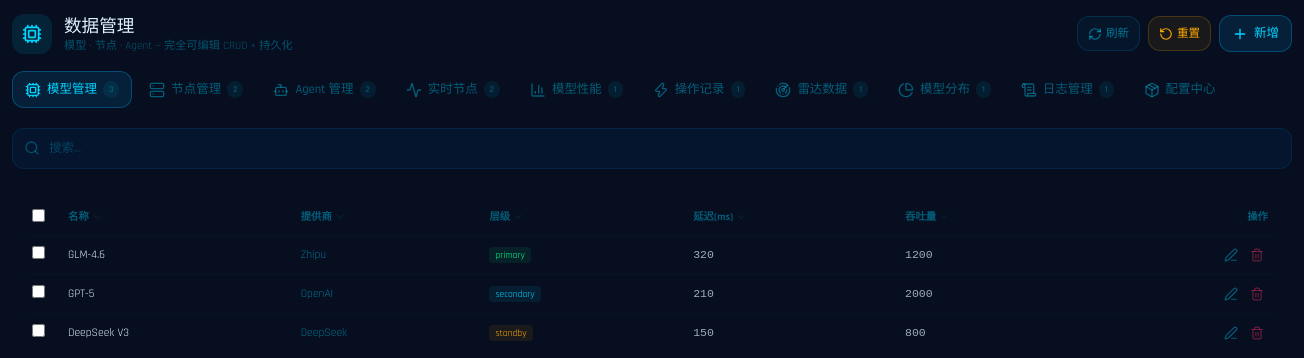
Test: DataEditorPanel 全链路 › 节点 tab: 新增节点走 addDbNode
The image size is (1304, 358).
Later steps or results of the test are not shown.
Expected: the text "GLM-4.6" is shown, x1=68 y1=247 x2=105 y2=262
Click the button "节点管理 2": (196, 90) x1=136 y1=71 x2=256 y2=108
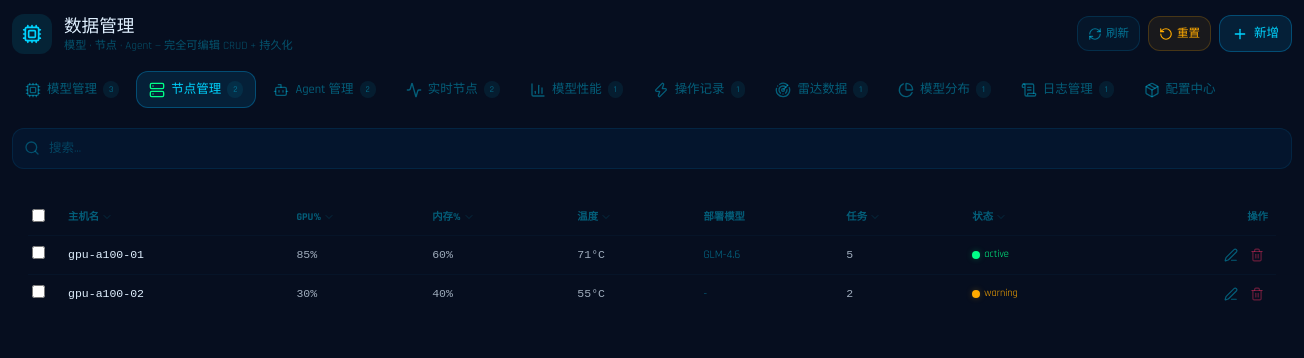
Result: the text "gpu-a100-01" is shown at x1=68 y1=248 x2=144 y2=261
